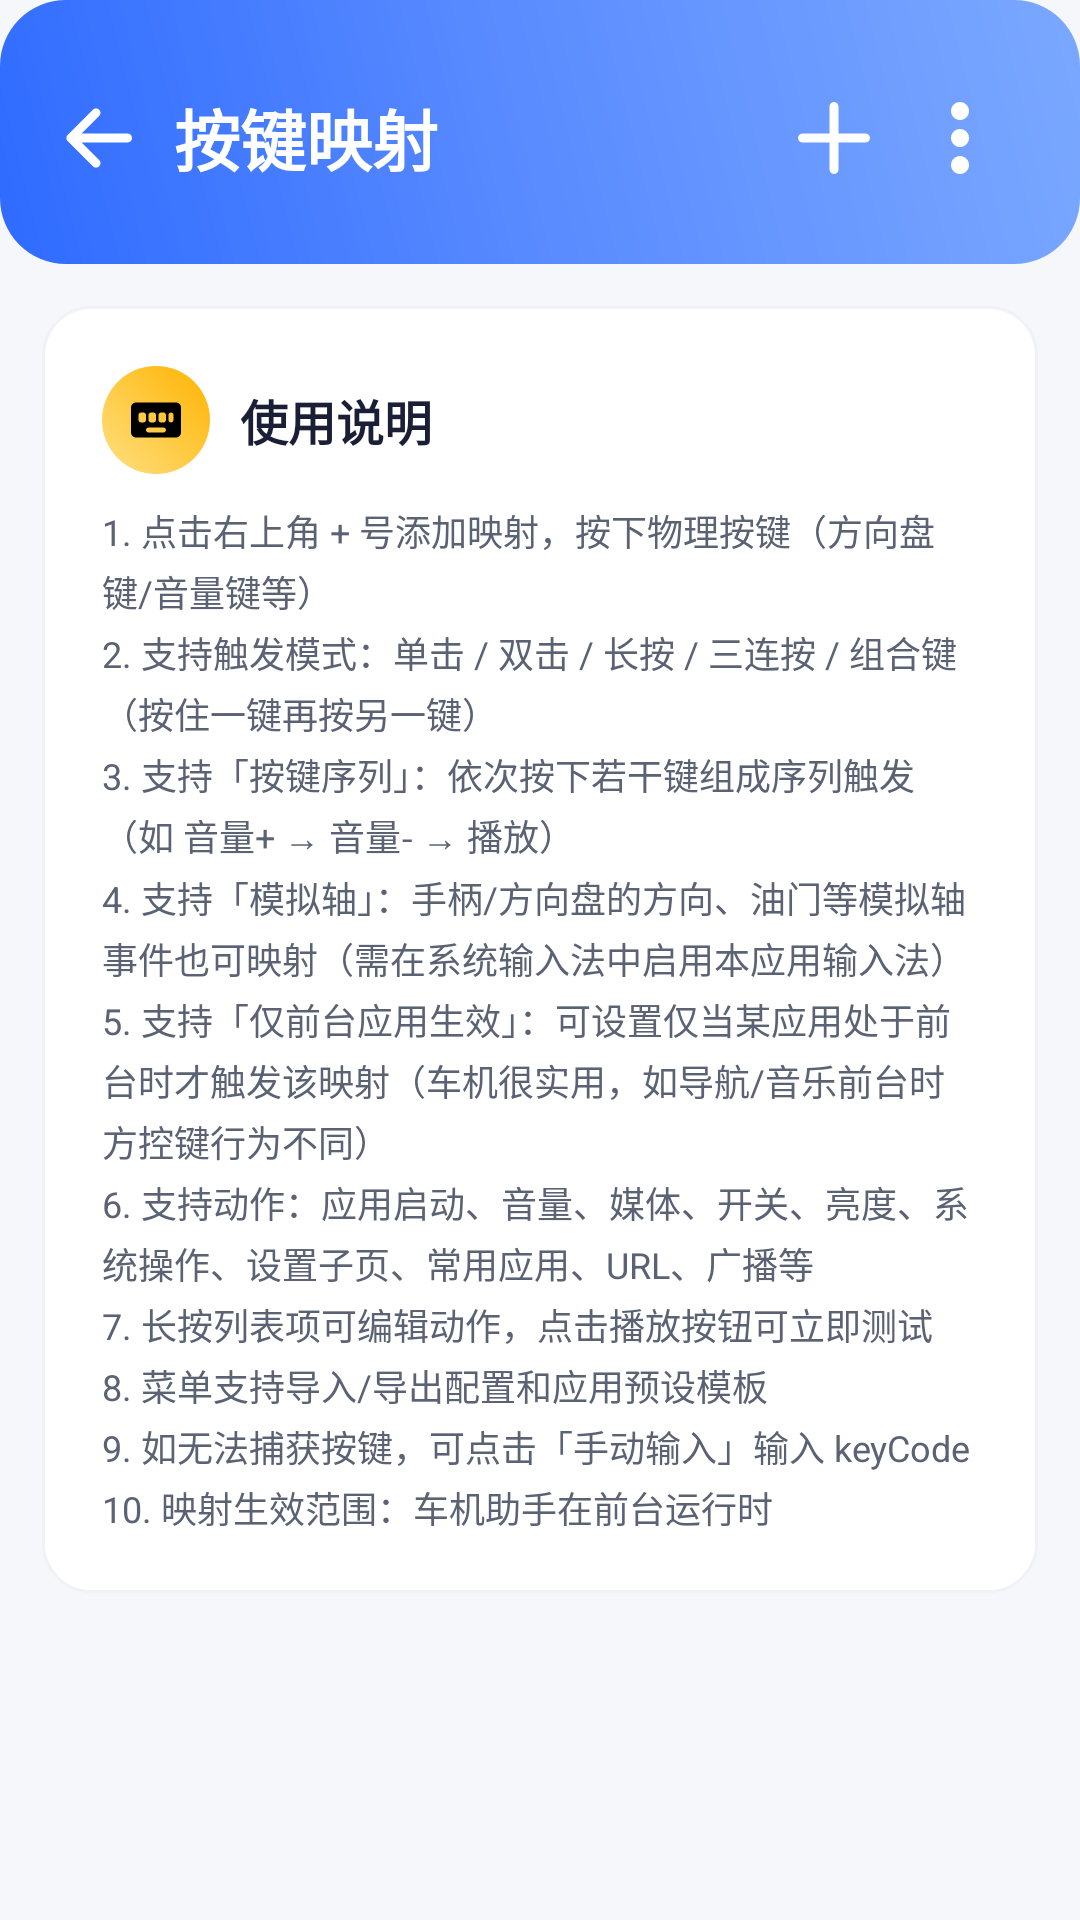

Icons on this 1080x1920 Android screen, each with the point to tap as (x=x, y=y):
feature keymap: (x=156, y=420)
菜单: (x=960, y=138)
返回: (x=99, y=138)
